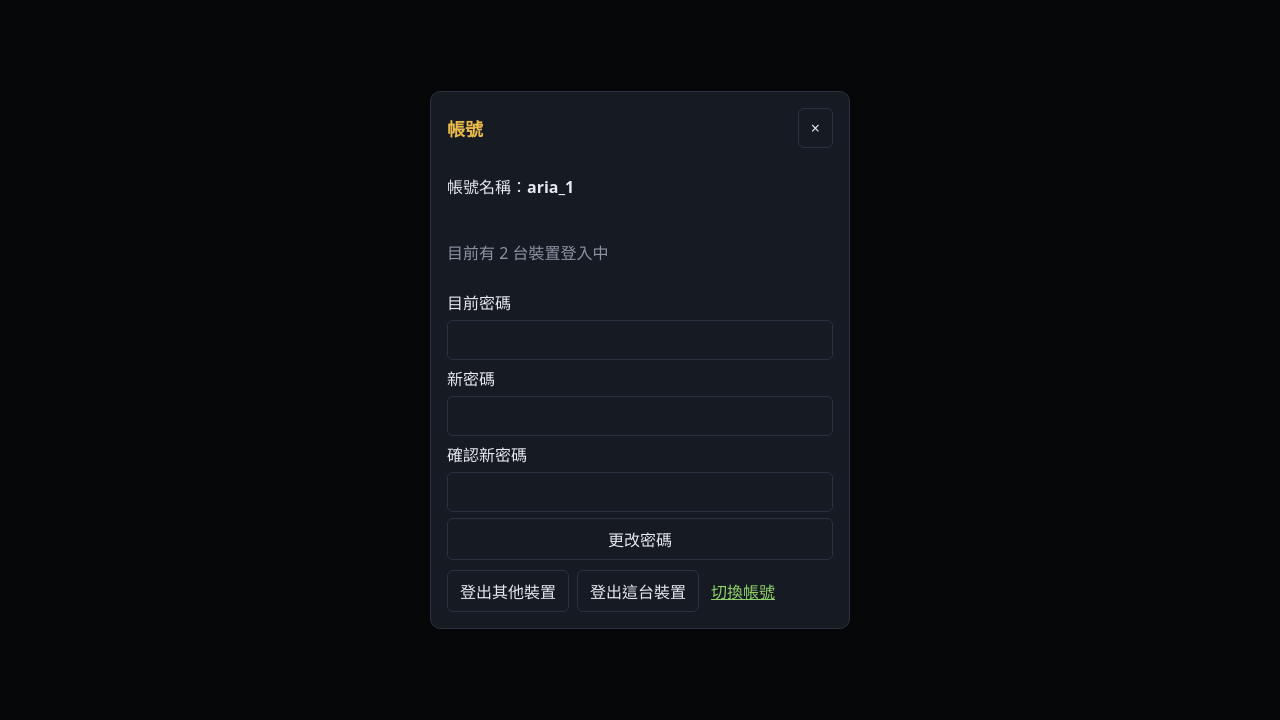
AccountDialog (bound) › a failed switch login keeps this device logged in
Expected: the text "aria_1" is shown, x1=527 y1=176 x2=574 y2=198
Click the button "切換帳號". click: (743, 591)
box: x1=707 y1=570 x2=779 y2=612
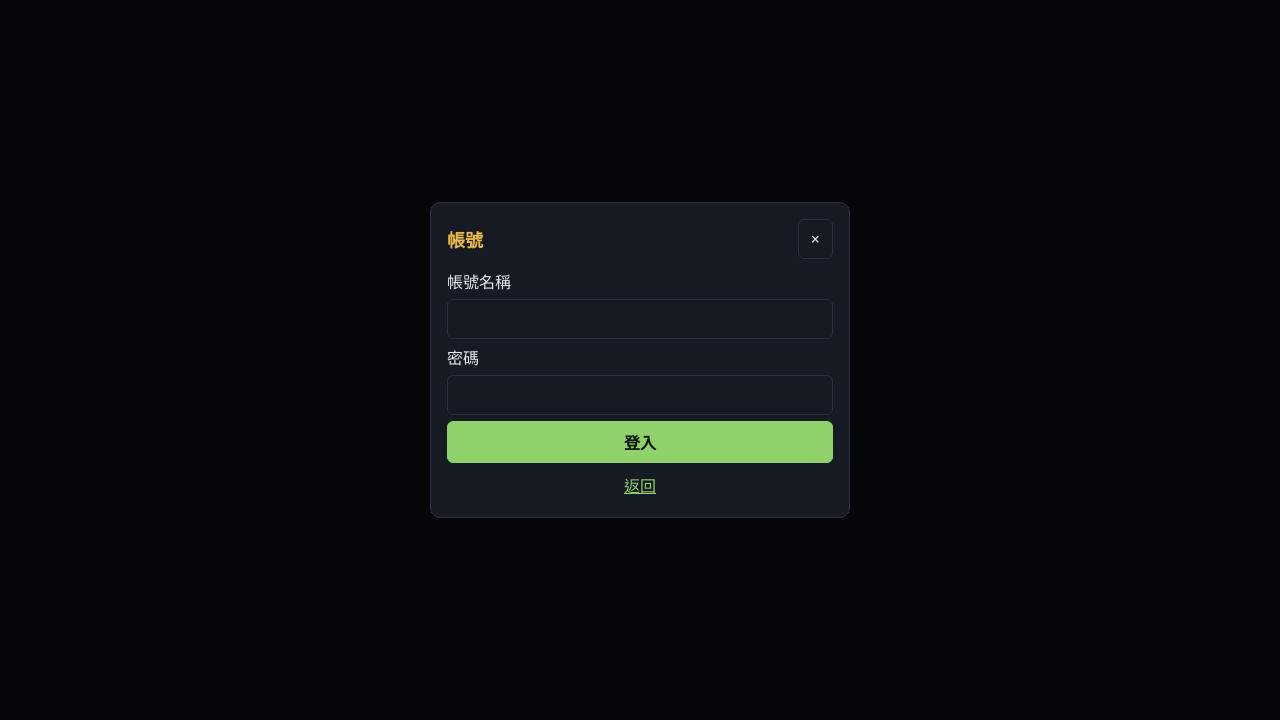
Type "other_1" into the field labelled "帳號名稱". click: (640, 319)
box: x1=447 y1=299 x2=833 y2=339
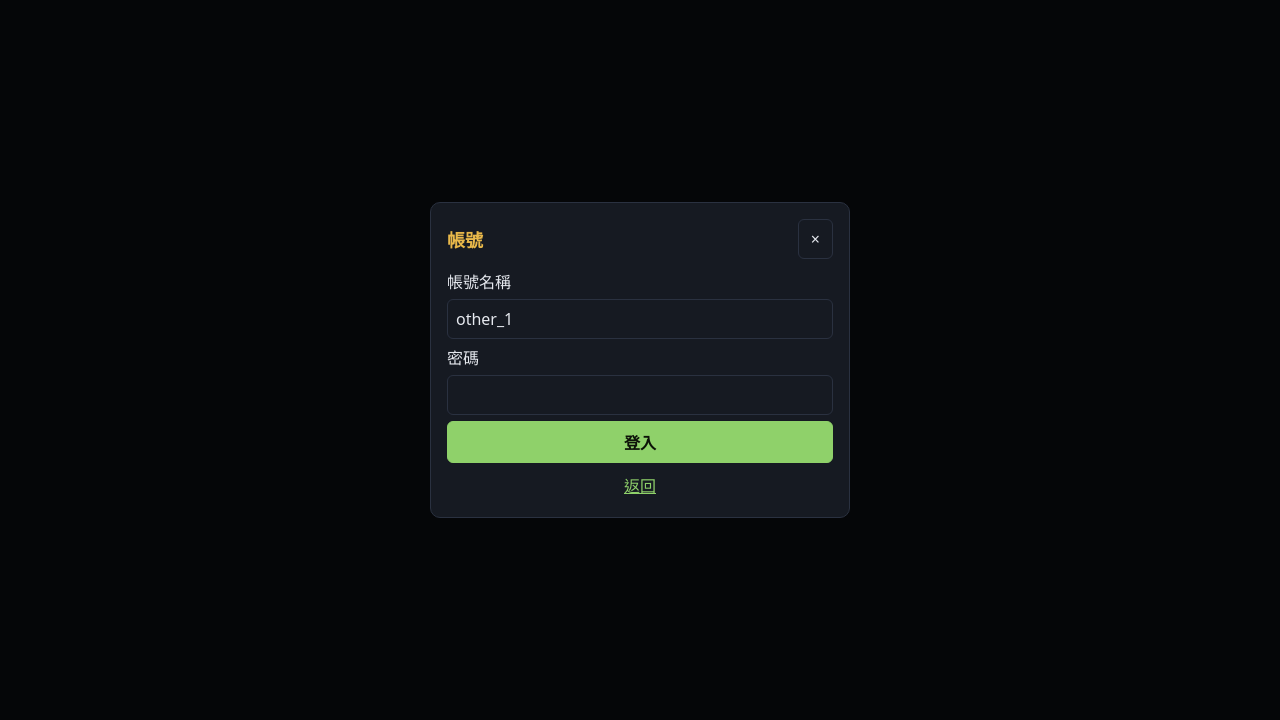
Type "password1" into the password field labelled "密碼". click: (640, 395)
box: x1=447 y1=375 x2=833 y2=415
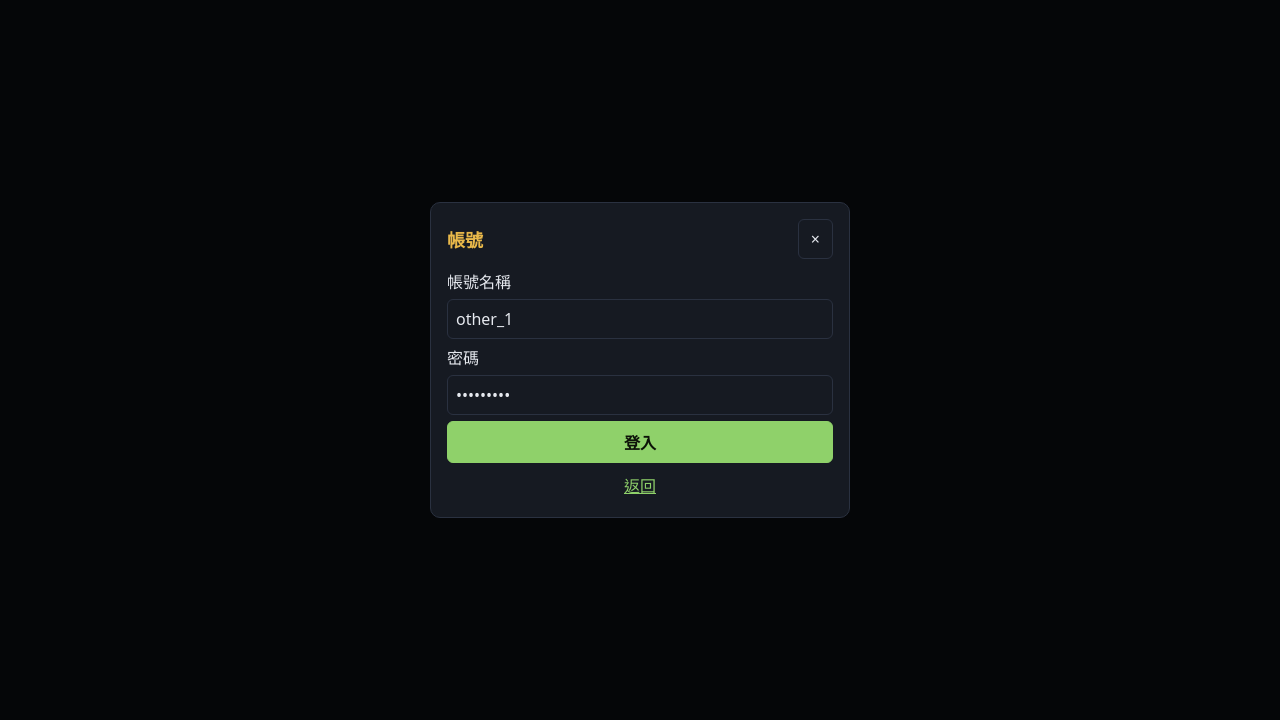
Click the button "登入". click: (640, 442)
box: x1=447 y1=421 x2=833 y2=463
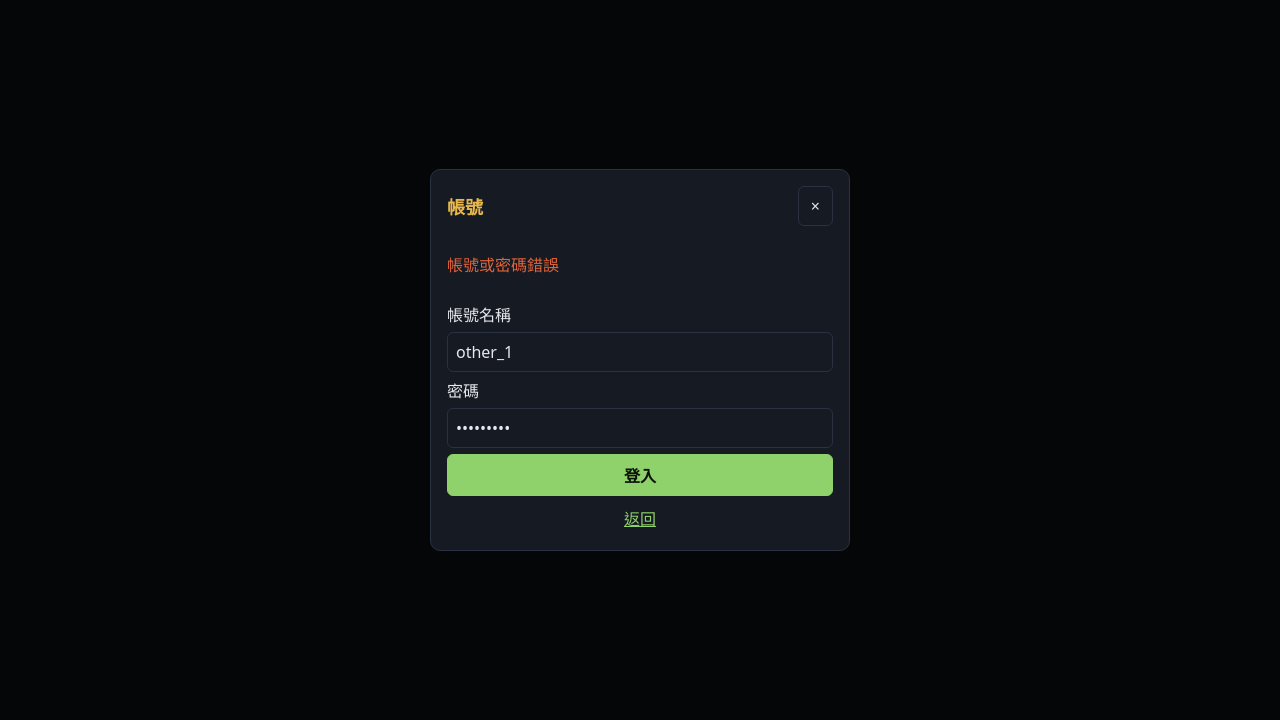
Result: the message reads "帳號或密碼錯誤" at x1=447 y1=254 x2=559 y2=276
